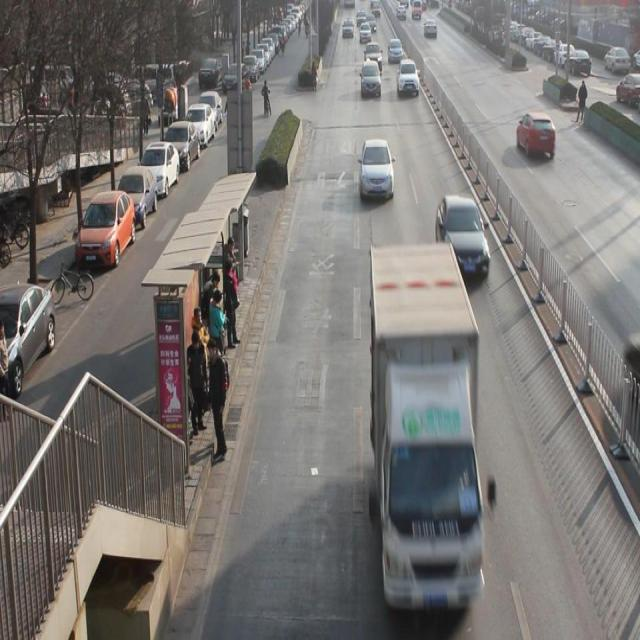bus: (368, 247, 482, 598)
car: (438, 195, 491, 278), (358, 136, 396, 199), (514, 112, 558, 163), (396, 58, 421, 102), (360, 60, 383, 96)
